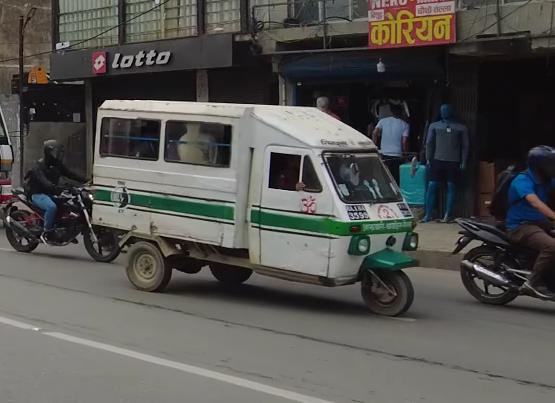bike: (448, 208, 555, 308), (4, 180, 122, 264)
tempo: (87, 92, 429, 322)
